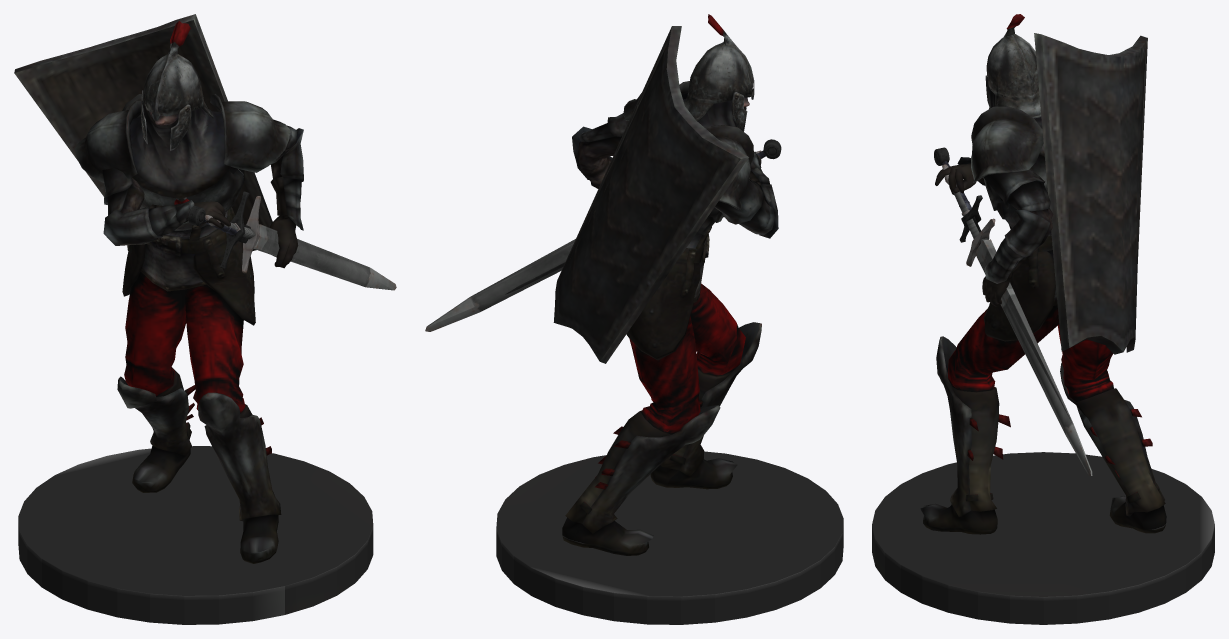
The picture shows the model from 3 angles, left to right: view 1: azimuth 30°, elevation 25°; view 2: azimuth 150°, elevation 25°; view 3: azimuth 270°, elevation 25°; orthographic projection. The views are drawn at different scales.
Parts seen in each view (by area): view 1: longsword2.smd; view 2: longsword2.smd; view 3: longsword2.smd.
Boxes of the visible parts, bbox=[...] form: longsword2.smd: bbox=[14, 14, 396, 624]; longsword2.smd: bbox=[425, 14, 843, 624]; longsword2.smd: bbox=[872, 14, 1214, 624].
Bounding box in the file's own units: 1.23 × 1.69 × 1.
1 material, 1 textured.
